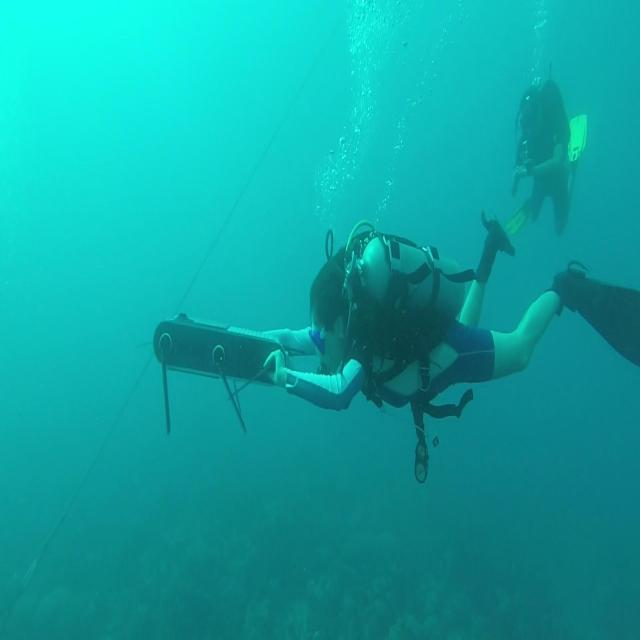human: (260, 211, 566, 484), (505, 74, 587, 237)
